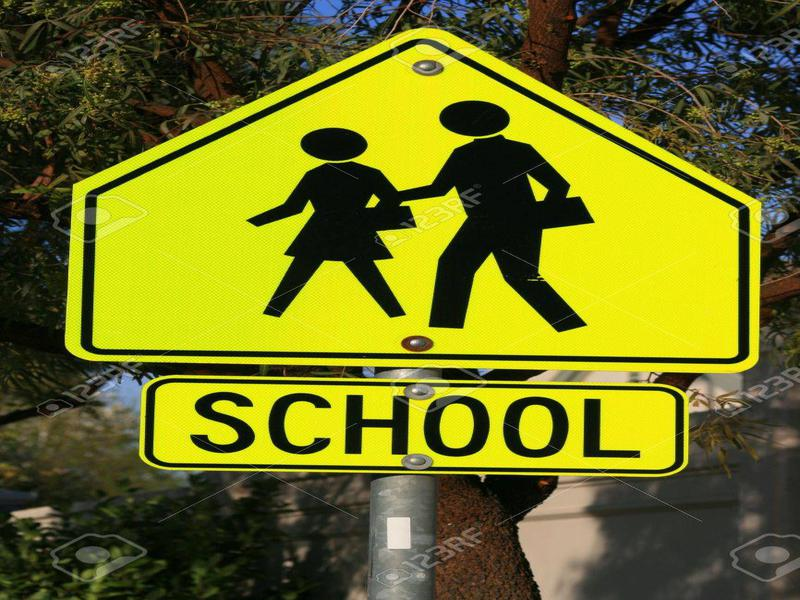slow: (68, 27, 764, 375)
